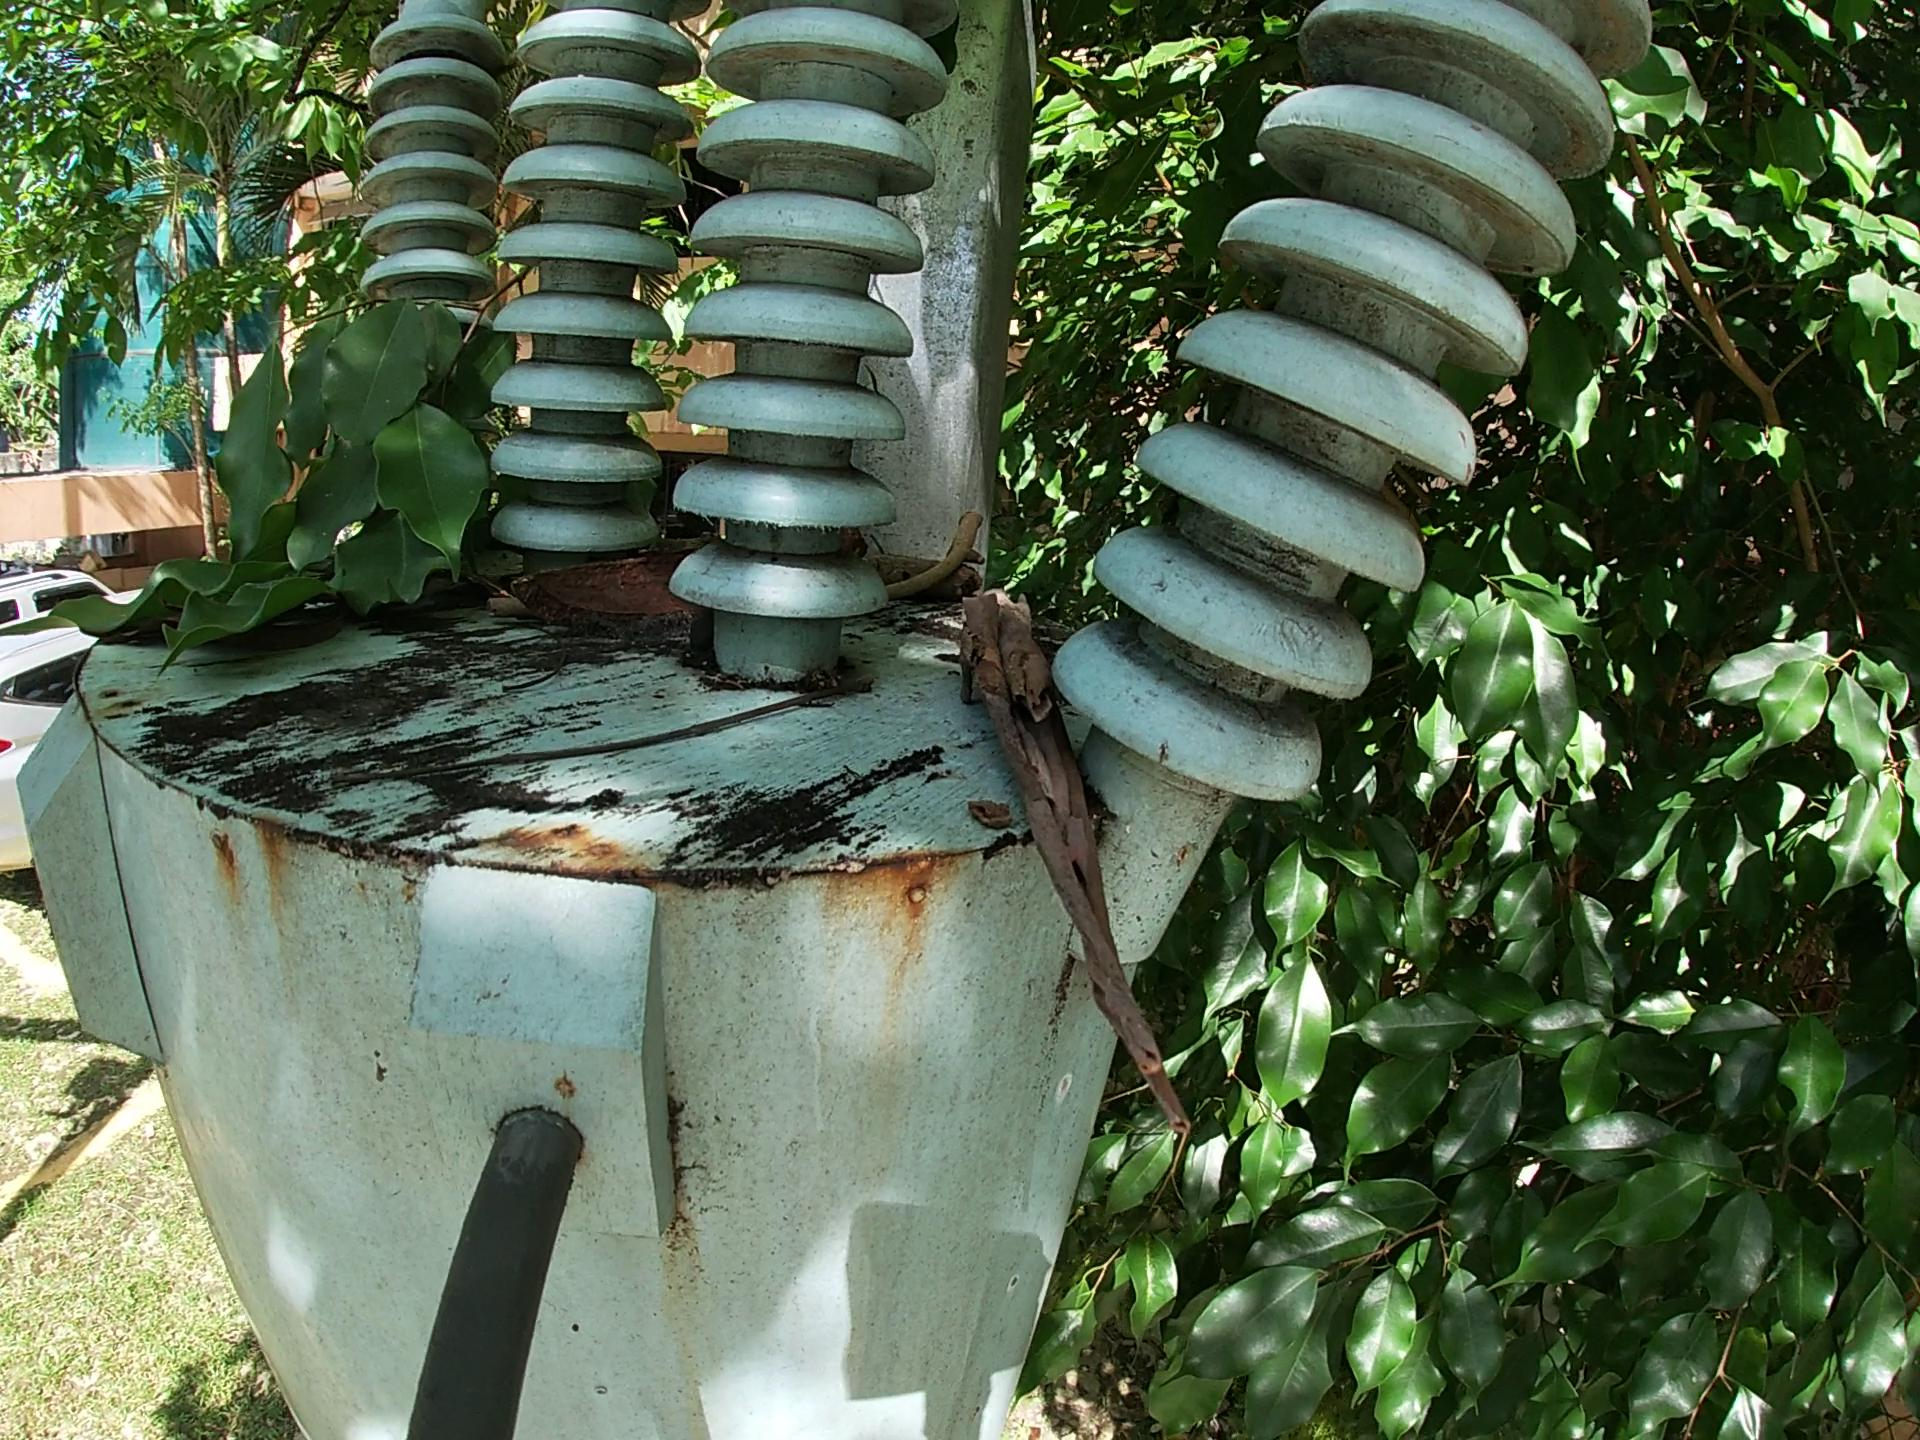branch with leaves: (2, 268, 531, 655)
mahogany fruit: (500, 548, 726, 640)
tree branch: (966, 570, 1197, 1141), (339, 672, 871, 788), (871, 507, 1005, 622), (856, 551, 989, 594), (472, 594, 534, 614)
